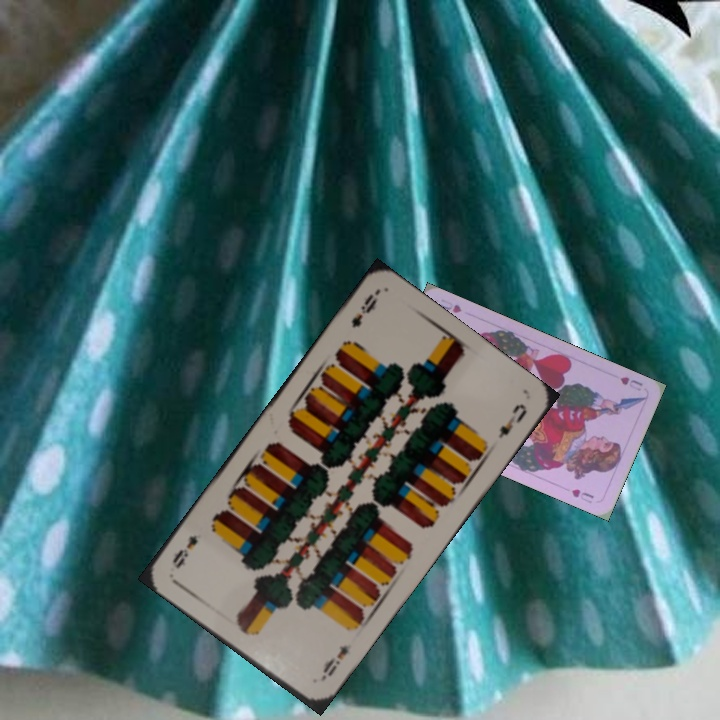E9: (316, 640, 354, 684), (347, 288, 381, 330)
HU: (616, 372, 645, 394)
